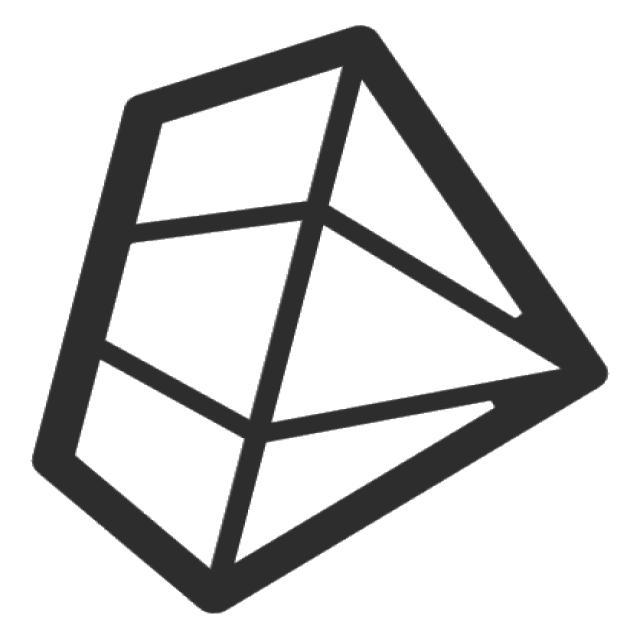diamond: (20, 11, 620, 631)
